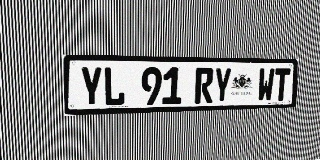1: (162, 67, 182, 104)
9: (141, 67, 162, 105)
L: (103, 67, 125, 106)
R: (194, 68, 214, 104)
T: (273, 68, 291, 101)
W: (257, 68, 275, 102)
Y: (79, 67, 103, 107), (213, 68, 232, 103)
